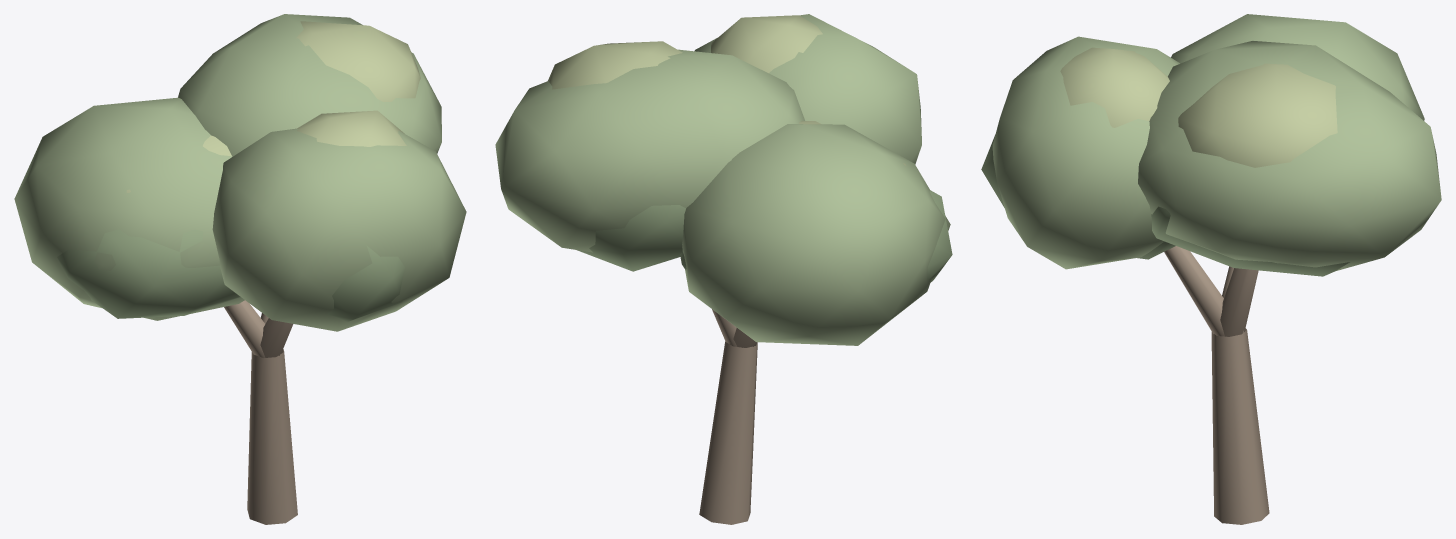
File: tree_ceibo_0.glb
3 renders of one model, left to right at view 1: azimuth 30°, elevation 25°; view 2: azimuth 150°, elevation 25°; view 3: azimuth 270°, elevation 25°, orthographic. The views are drawn at different scales.
Parts seen in each view (by area): view 1: tree_ceibo_0.glb; view 2: tree_ceibo_0.glb; view 3: tree_ceibo_0.glb.
Part boxes in pixels (box(x1,y1,x2,y2)): tree_ceibo_0.glb: box(14, 14, 466, 524); tree_ceibo_0.glb: box(495, 14, 952, 524); tree_ceibo_0.glb: box(981, 14, 1441, 524).
Size of the model in its own units: 4.29 by 4.78 by 4.14.
